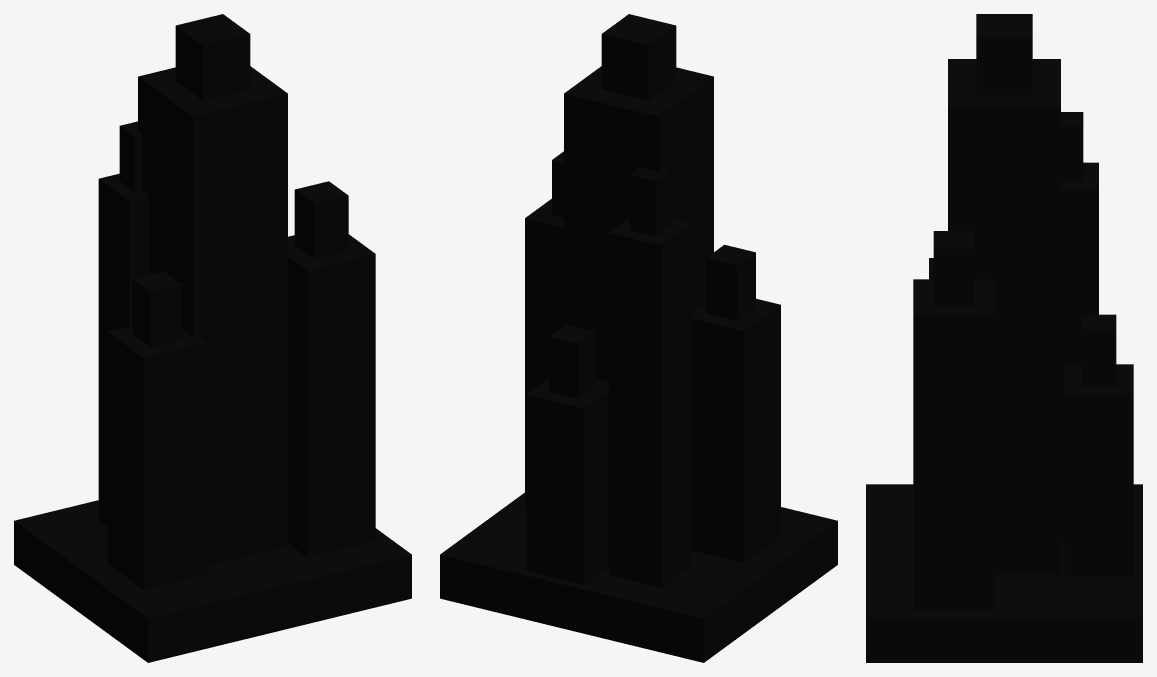
File: IceCrystal.obj
3 renders of one model, left to right at view 1: azimuth 30°, elevation 25°; view 2: azimuth 150°, elevation 25°; view 3: azimuth 270°, elevation 25°, orthographic. The views are drawn at different scales.
Visible parts, largest first — view 1: IceCrystal; view 2: IceCrystal; view 3: IceCrystal.
Boxes of the visible parts, box(x1,y1,x2,y2) form: IceCrystal: box(14, 14, 411, 662); IceCrystal: box(440, 14, 837, 662); IceCrystal: box(866, 14, 1142, 662).
Bounding box in the file's own units: 5 × 10 × 4.4.
